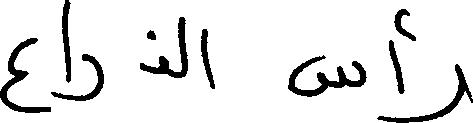X: (288, 50, 365, 101), (421, 59, 472, 122), (0, 33, 35, 117), (390, 4, 405, 122), (141, 25, 167, 78), (82, 49, 103, 105), (200, 24, 215, 93), (61, 0, 69, 104), (177, 12, 184, 82)
